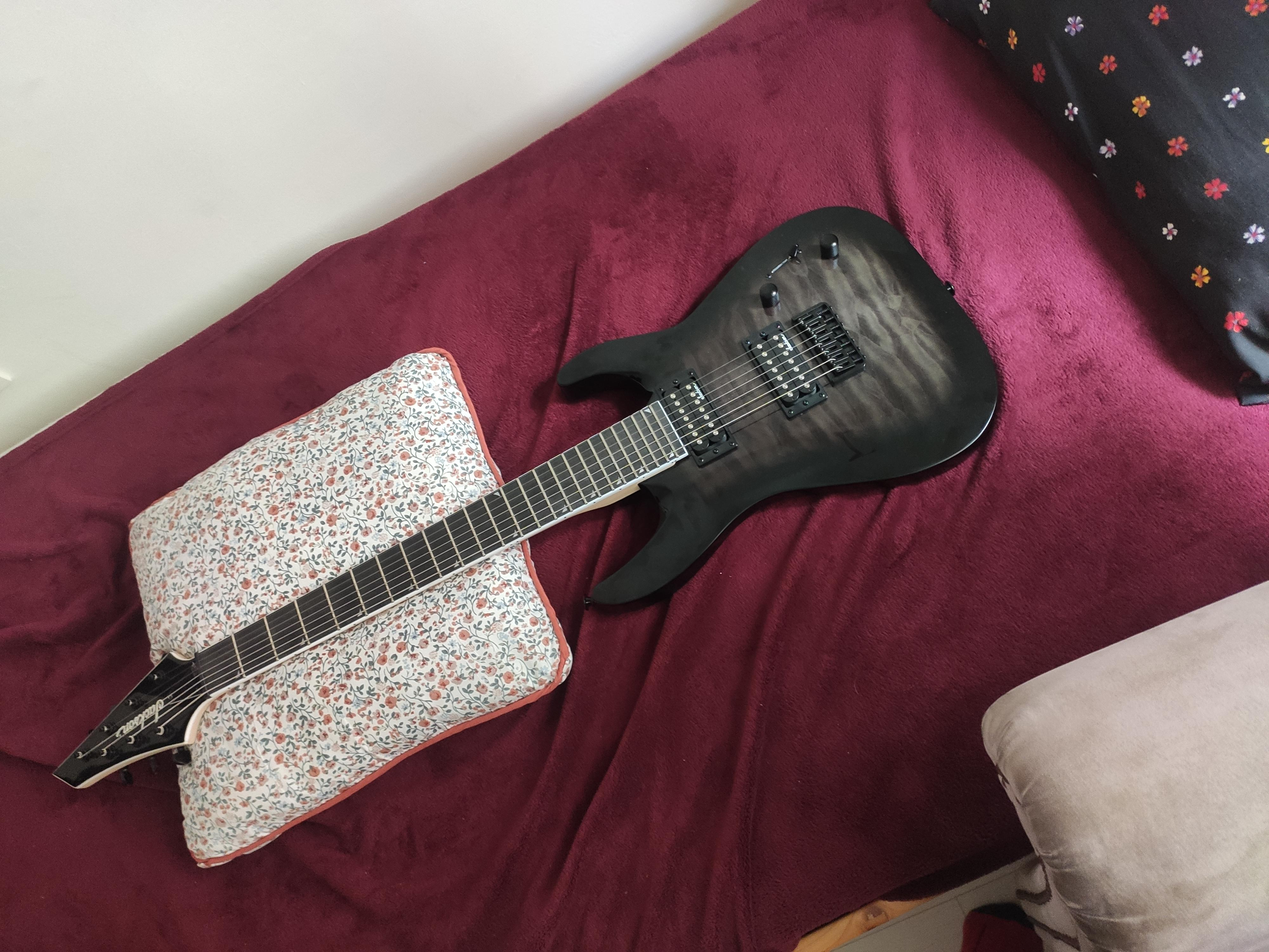acousticguitar: (210, 36, 1001, 762)
